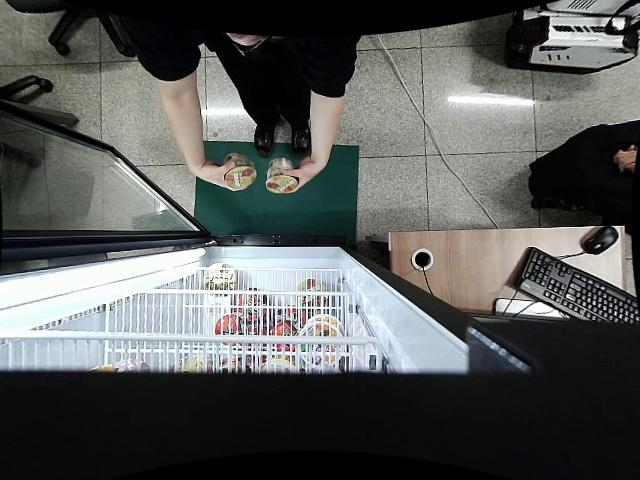00_hand: (285, 157, 321, 195), (200, 161, 237, 193)
04_chapagetti_S: (223, 153, 256, 191), (265, 159, 298, 191)
